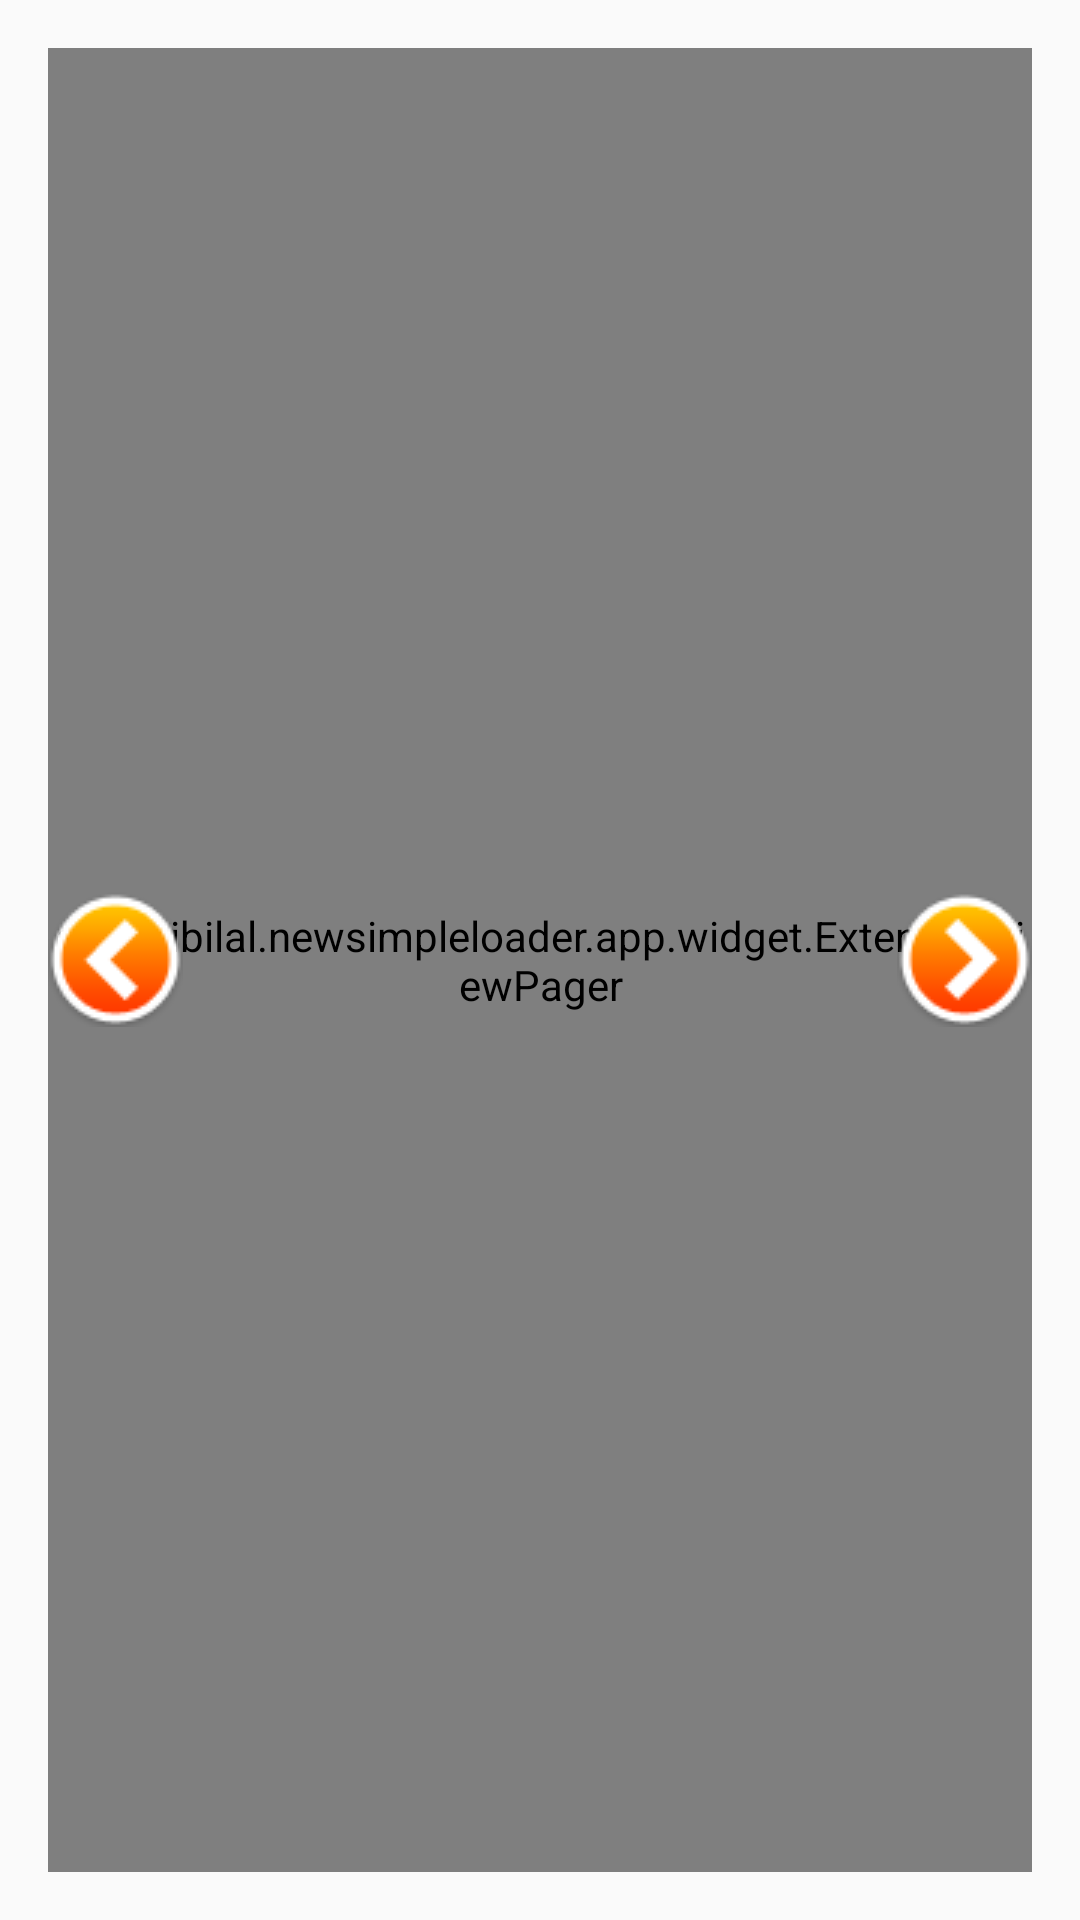

Point at icon controls on the screen. Image size 1080w x 1920h, points as point (x, y).
next off: point (963, 959)
prev off: point (115, 959)
